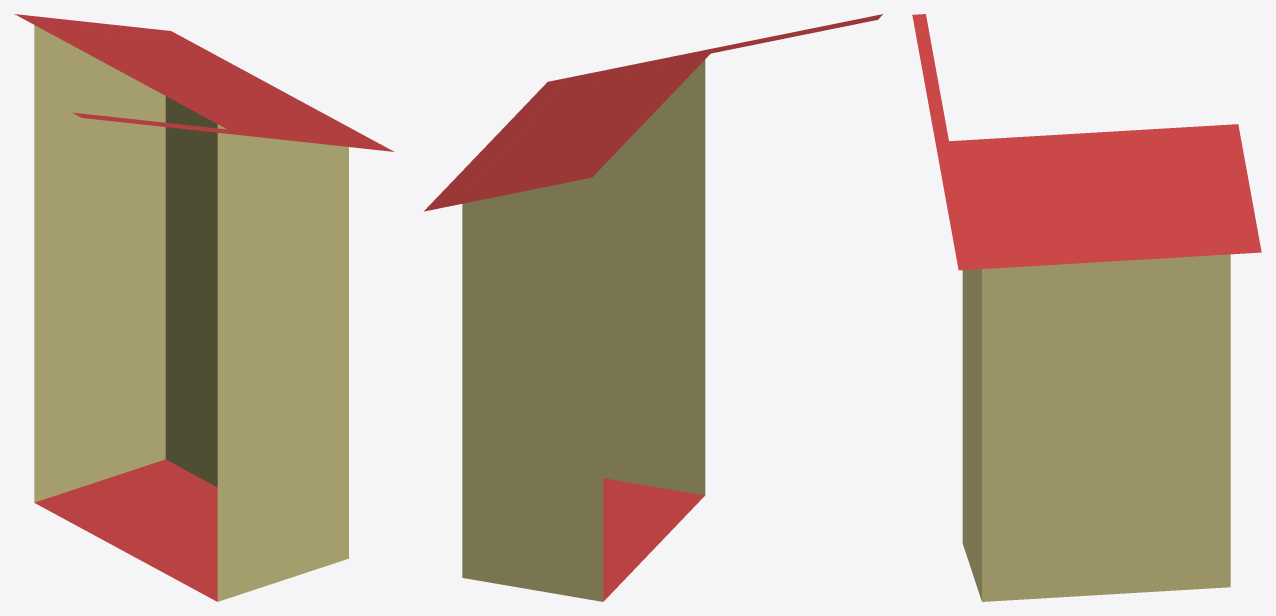
3 renders of one model, left to right at view 1: azimuth 30°, elevation 25°; view 2: azimuth 150°, elevation 25°; view 3: azimuth 270°, elevation 25°, orthographic. The views are drawn at different scales.
Bounding box in the file's own units: 6.06 × 6.36 × 9.24.
